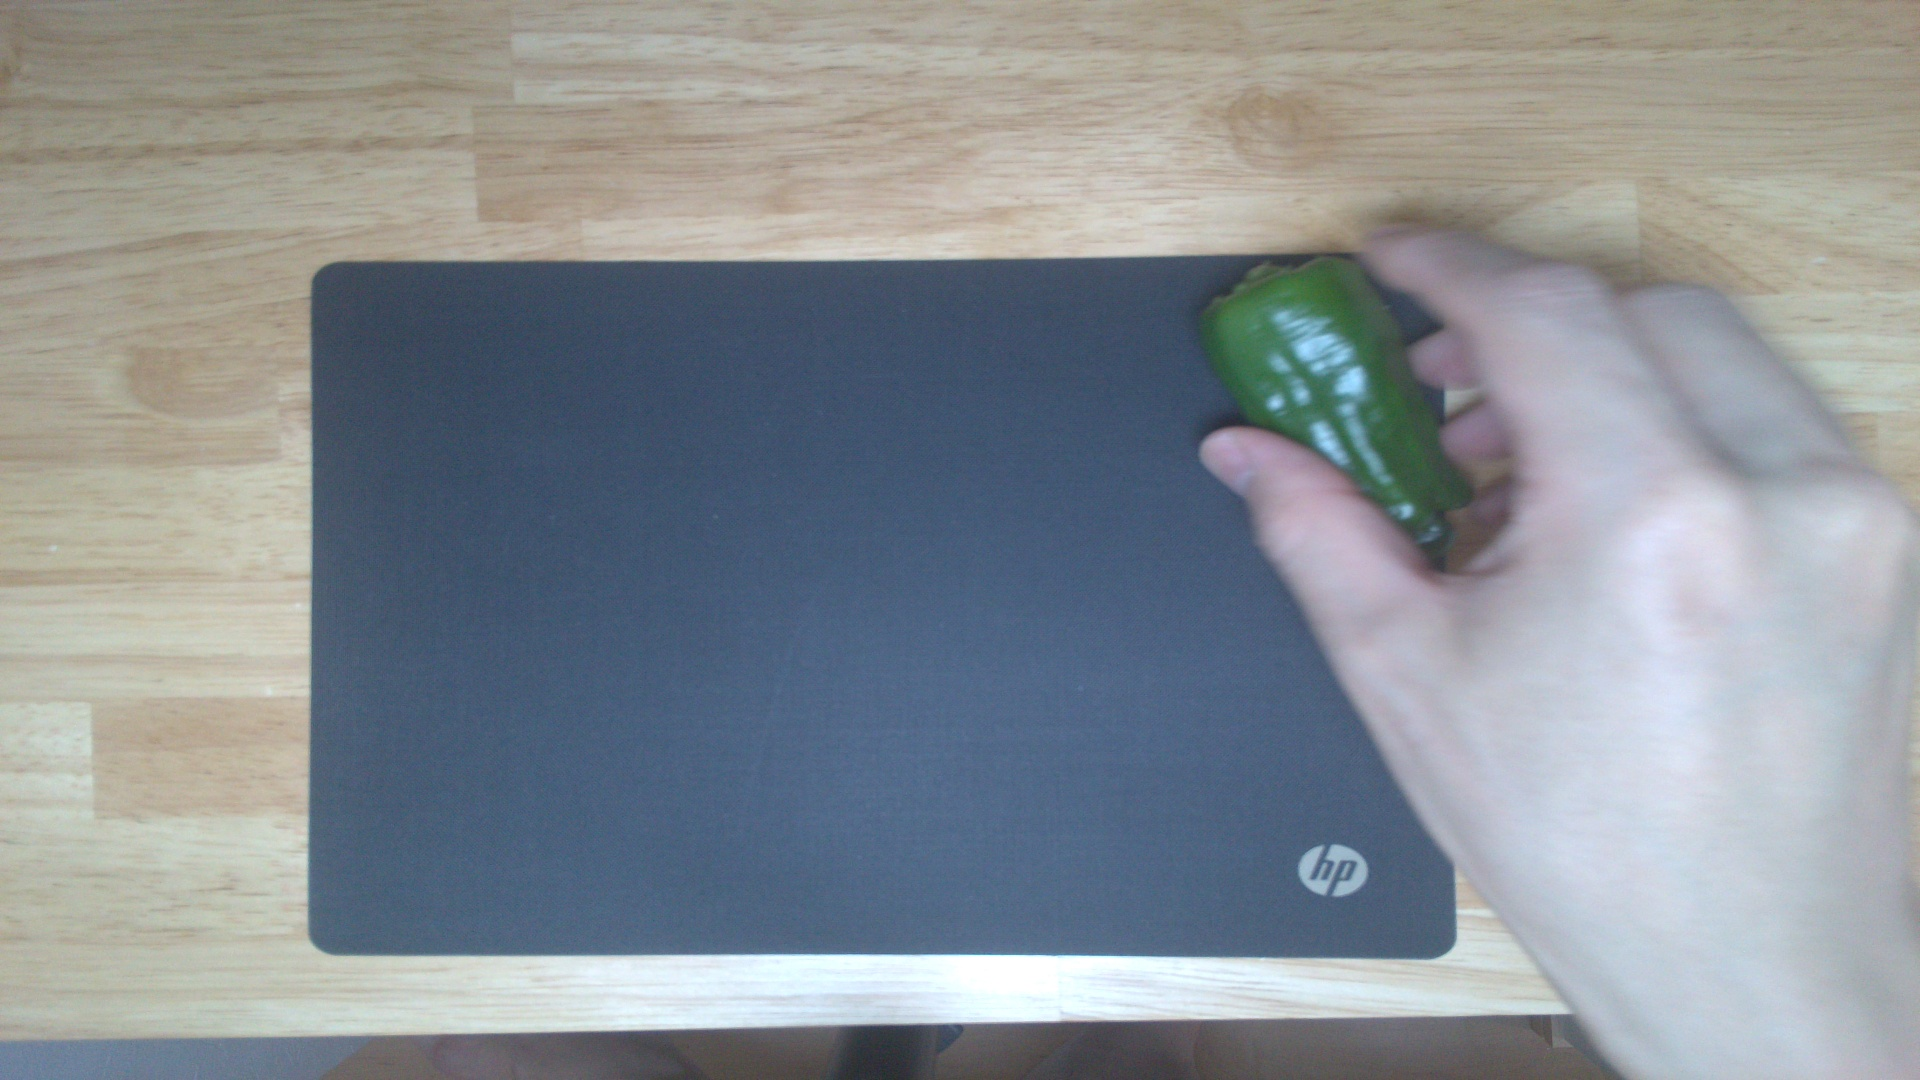Piman: (1204, 252, 1476, 564)
